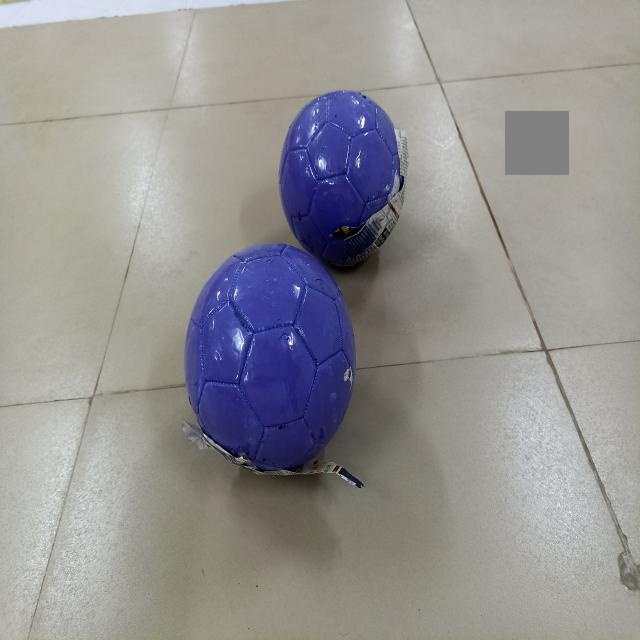purple_ball: (191, 249, 354, 480), (288, 83, 396, 259)
